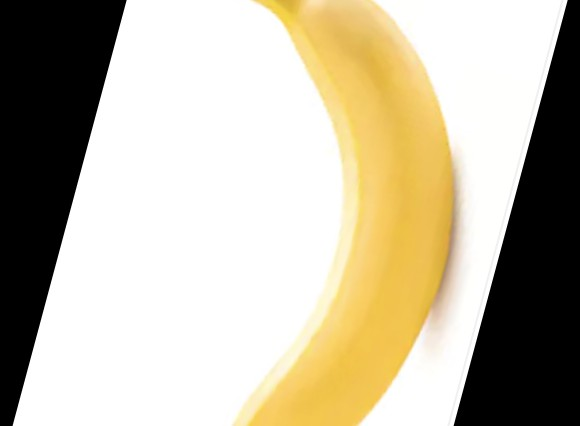fresh_banana: (230, 1, 455, 426)
